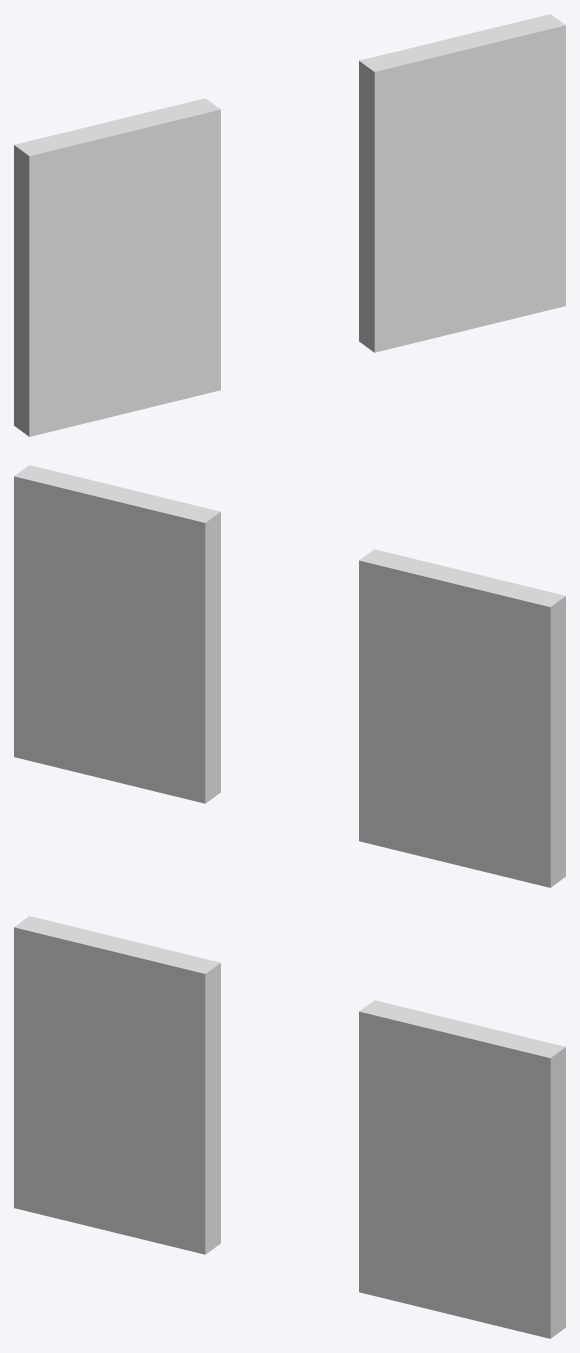
Rendered from wall_031.fbx.
The picture shows the model from 3 angles, top to bottom: view 1: azimuth 30°, elevation 25°; view 2: azimuth 150°, elevation 25°; view 3: azimuth 330°, elevation 25°; orthographic projection.
Visible parts, largest first — view 1: wall_031; view 2: wall_031; view 3: wall_031.
Part boxes in pixels (x1,y1,x2,y2): wall_031: (14, 14, 565, 436); wall_031: (14, 465, 565, 887); wall_031: (14, 916, 565, 1338).
Size of the model in its own units: 400 by 20 by 200.
